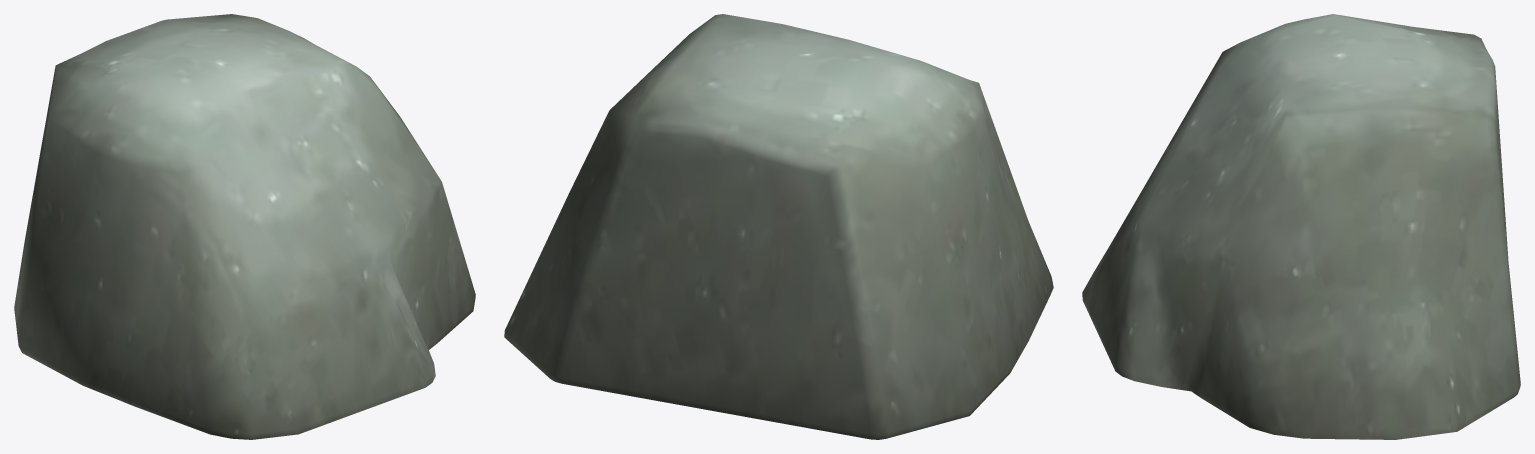
File: rock-a.glb
3 renders of one model, left to right at view 1: azimuth 30°, elevation 25°; view 2: azimuth 150°, elevation 25°; view 3: azimuth 270°, elevation 25°, orthographic. The views are drawn at different scales.
Visible parts, largest first — view 1: StoneA_node1; view 2: StoneA_node1; view 3: StoneA_node1.
Part boxes in pixels (box(x1,y1,x2,y2)): StoneA_node1: box(14, 14, 475, 439); StoneA_node1: box(504, 14, 1053, 439); StoneA_node1: box(1082, 14, 1520, 439).
Bounding box in the file's own units: 0.958 × 0.6089 × 0.8805.
Materials: 1 (1 with a texture image).
